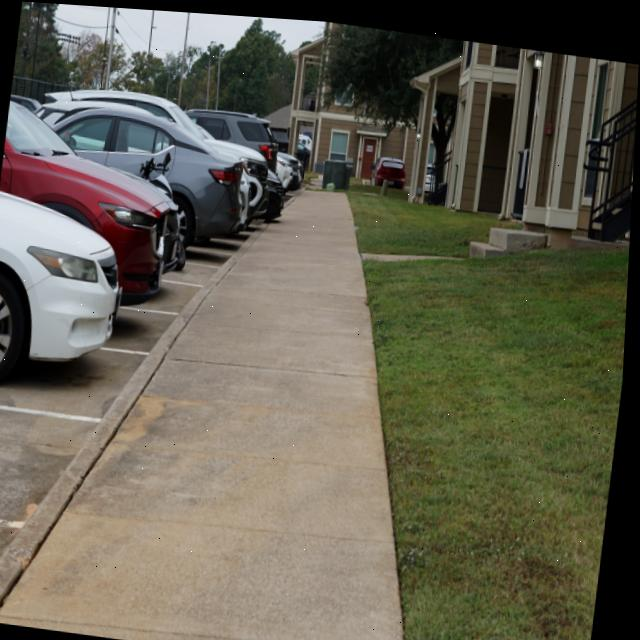Automobile: (2, 120, 174, 291), (54, 98, 243, 243), (0, 190, 122, 359), (46, 88, 215, 137), (188, 107, 279, 168), (230, 142, 269, 218), (0, 286, 18, 370), (372, 151, 407, 182), (265, 169, 288, 214), (277, 149, 294, 185), (244, 146, 248, 152)
Obstacle: (324, 154, 353, 184)
Road: (0, 262, 218, 563)
Sidewalk: (0, 188, 410, 640)
